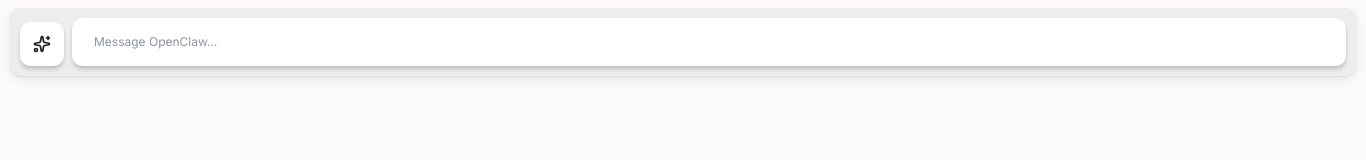
Scenario: the chat composer in the dock › sends on Enter and clears, and newlines on Shift+Enter
Type "plan my afternoon" into the text box with test id "chat-dock-input".
click(709, 42); type("plan my afternoon")  # box [94,31,1324,53]
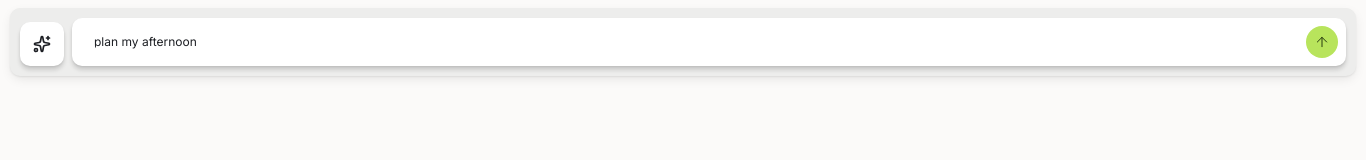
Press Enter in the text box with test id "chat-dock-input", box [94,31,1298,53]
Press Enter in the text box with test id "chat-dock-input", box [94,31,1298,53]
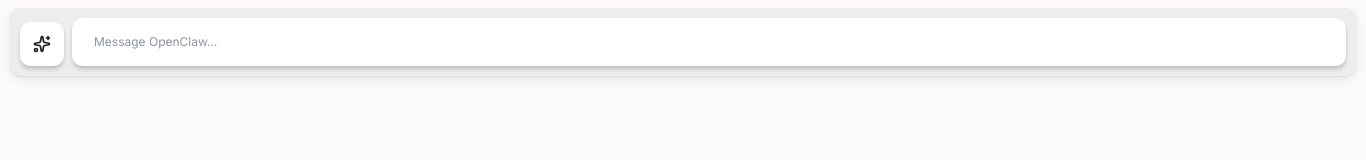
Expected: the text box with test id "chat-dock-input" is empty, [94,31,1324,53]
